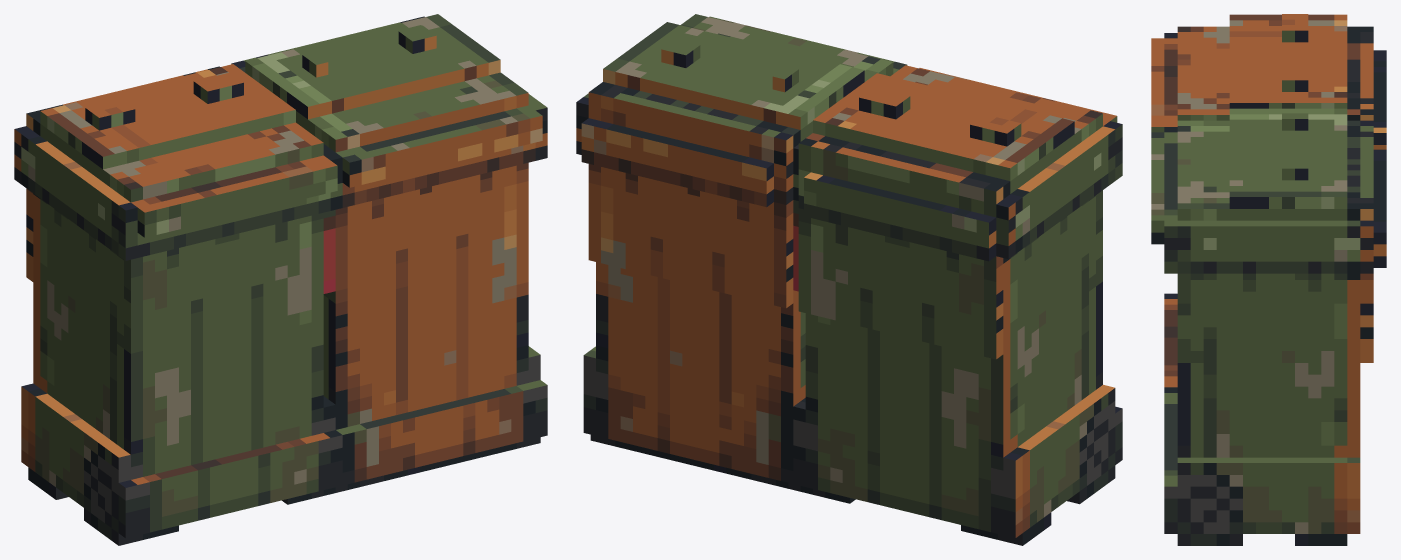
The model's file is city_trash_bins.glb.
The picture shows the model from 3 angles, left to right: view 1: azimuth 30°, elevation 25°; view 2: azimuth 150°, elevation 25°; view 3: azimuth 270°, elevation 25°; orthographic projection. The views are drawn at different scales.
Visible parts, largest first — view 1: city_trash_bins; view 2: city_trash_bins; view 3: city_trash_bins.
Part boxes in pixels (x1,y1,x2,y2): city_trash_bins: (14, 14, 547, 545); city_trash_bins: (576, 14, 1122, 545); city_trash_bins: (1151, 14, 1386, 545).
Size of the model in its own units: 1.09 by 0.9375 by 0.5625.
